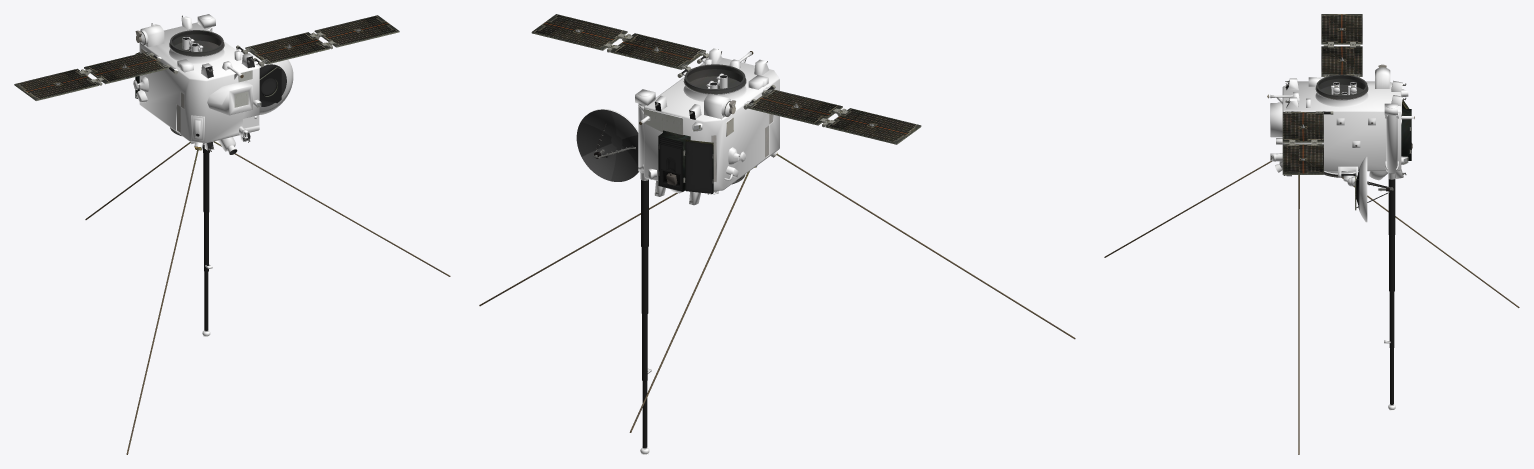
File: stereo_b.gltf
3 views of the same model, side by side, from view 1: azimuth 30°, elevation 25°; view 2: azimuth 150°, elevation 25°; view 3: azimuth 270°, elevation 25° (orthographic). The views are drawn at different scales.
Visible parts, largest first — view 1: StereoB, shiny_panel, tex_01, tex_black, AO_dark; view 2: StereoB, tex_01, shiny_panel, AO_dish, AO_dark, tex_black; view 3: StereoB, shiny_panel, tex_01, tex_black.
Boxes of the visible parts, box(x1,y1,x2,y2) form: StereoB: box(133, 14, 293, 336); shiny_panel: box(15, 15, 398, 99); tex_01: box(14, 15, 450, 454); tex_black: box(153, 37, 281, 330); AO_dark: box(259, 64, 286, 106); StereoB: box(591, 48, 779, 454); tex_01: box(479, 29, 1075, 432); shiny_panel: box(532, 14, 920, 143); AO_dish: box(576, 109, 638, 181); AO_dark: box(658, 136, 712, 193); tex_black: box(596, 56, 773, 448); StereoB: box(1268, 67, 1413, 410); shiny_panel: box(1282, 14, 1362, 173); tex_01: box(1104, 28, 1519, 454); tex_black: box(1291, 82, 1410, 404).
Bounding box in the file's own units: 8.02 × 5.89 × 7.11.
7 materials, 4 textured.
